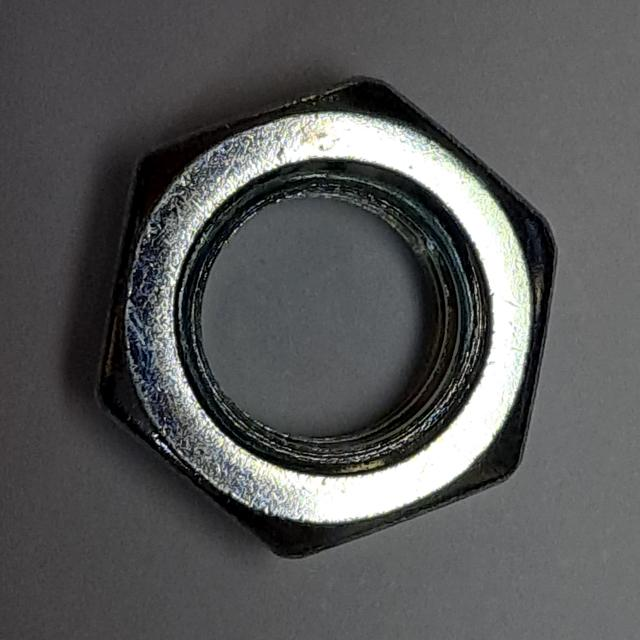Excellent: (83, 67, 569, 573)
